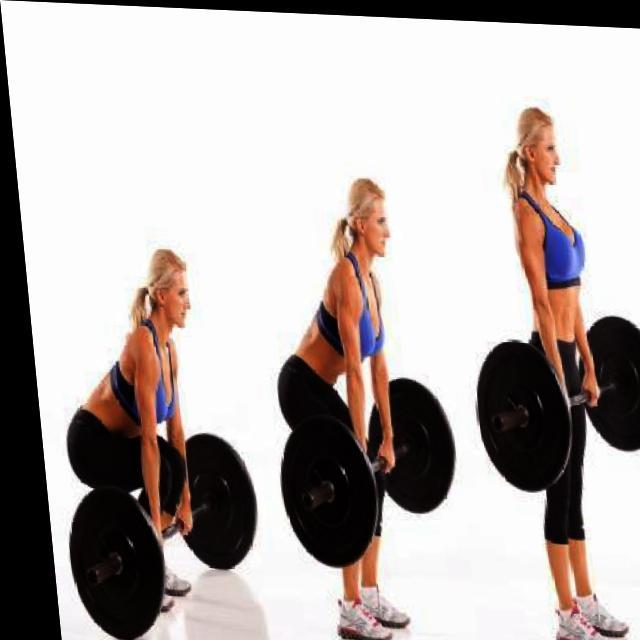barbell: (262, 405, 378, 571), (460, 331, 575, 494), (49, 477, 160, 640)
